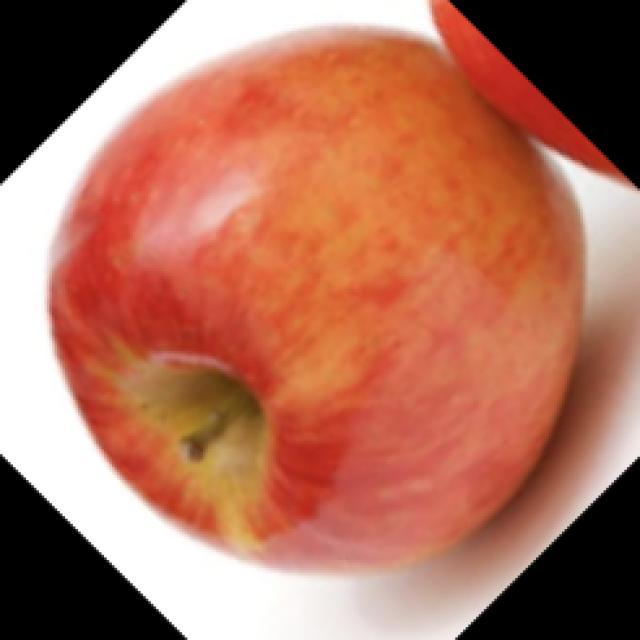Fresh Apple: (45, 25, 583, 582)
